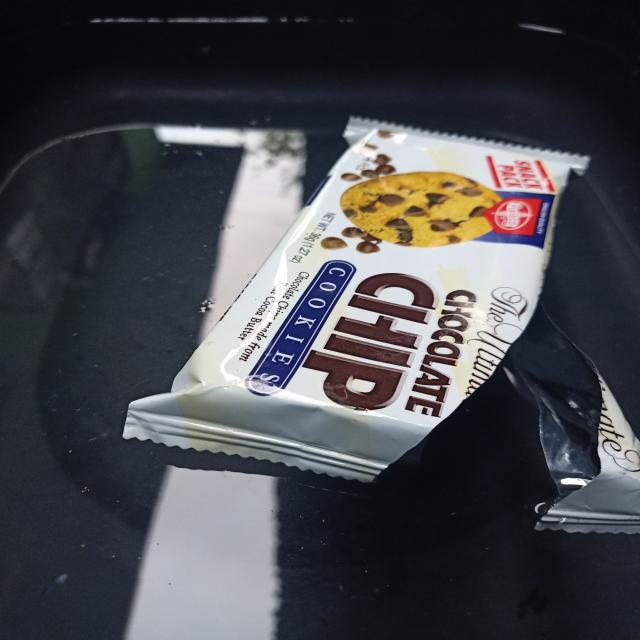Plastic Wrapper: (126, 111, 640, 534)
